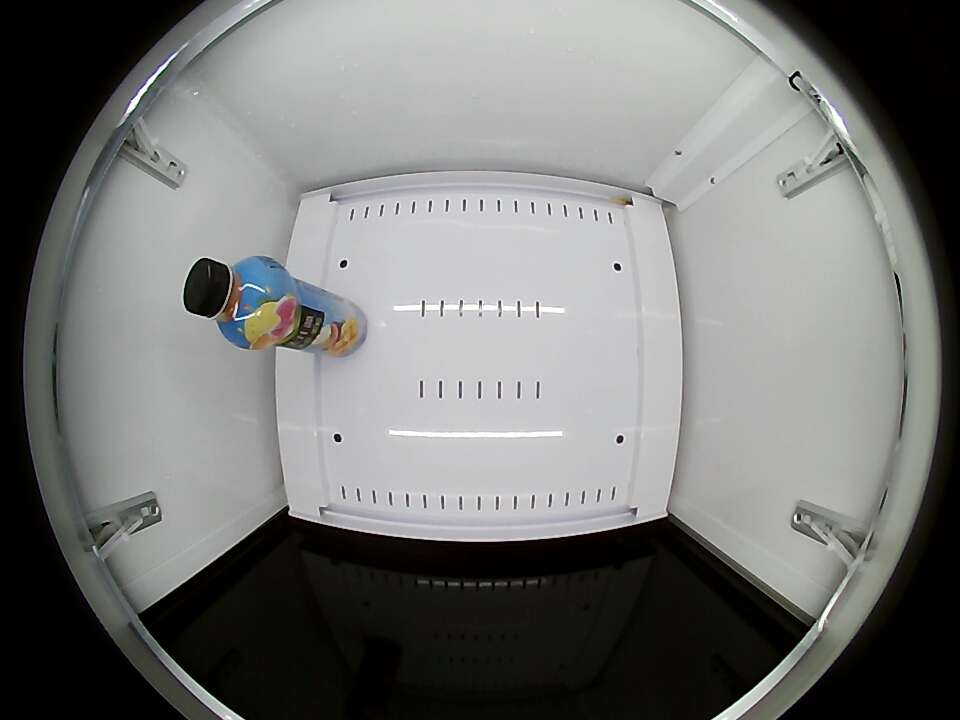guolicheng2: (183, 255, 288, 347)
